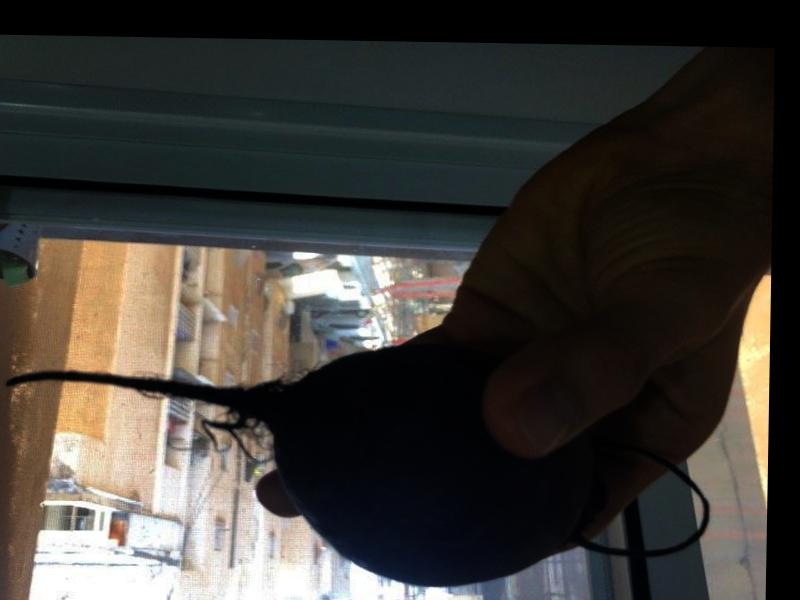Beet: (0, 338, 709, 591)
